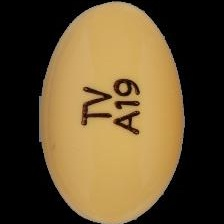0093-5354: (0, 0, 224, 224)
